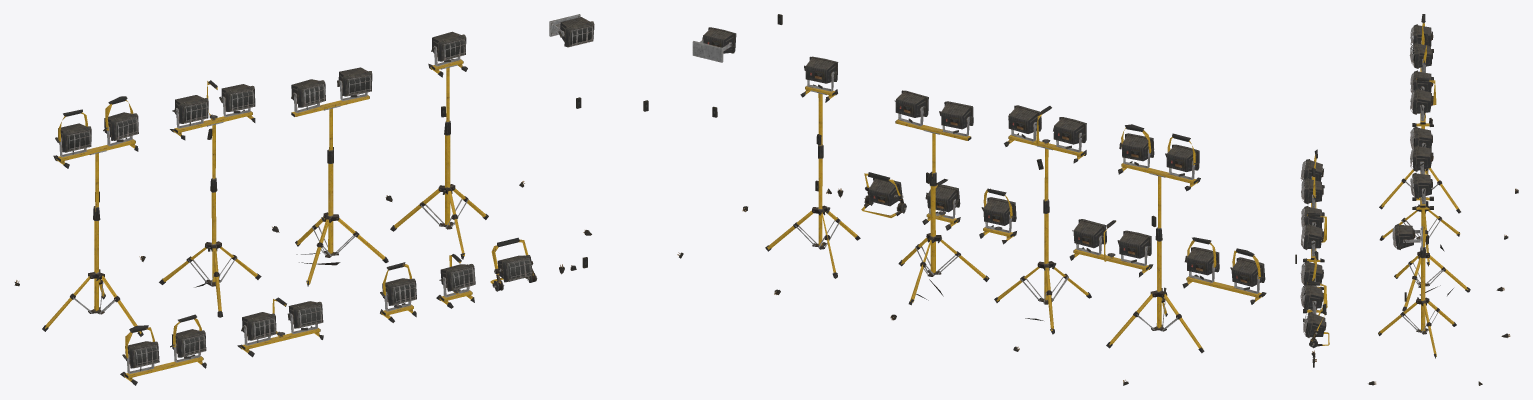
File: flood_lights.glb
3 renders of one model, left to right at view 1: azimuth 30°, elevation 25°; view 2: azimuth 150°, elevation 25°; view 3: azimuth 270°, elevation 25°, orthographic. The views are drawn at different scales.
Parts seen in each view (by area): view 1: flood_lights_cable_a_geo, flood_lights_floor_double_a_light_01; view 2: flood_lights_cable_a_geo; view 3: flood_lights_cable_a_geo.
Boxes of the visible parts, box(x1,y1,x2,y2) form: flood_lights_cable_a_geo: box(14, 14, 648, 385); flood_lights_floor_double_a_light_01: box(67, 27, 591, 366); flood_lights_cable_a_geo: box(677, 14, 1266, 385); flood_lights_cable_a_geo: box(1295, 14, 1518, 385).
Bounding box in the file's own units: 4.57 × 1.8 × 2.04.
2 materials, 2 textured.
